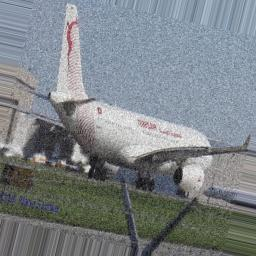Airplane: (29, 4, 248, 190)
